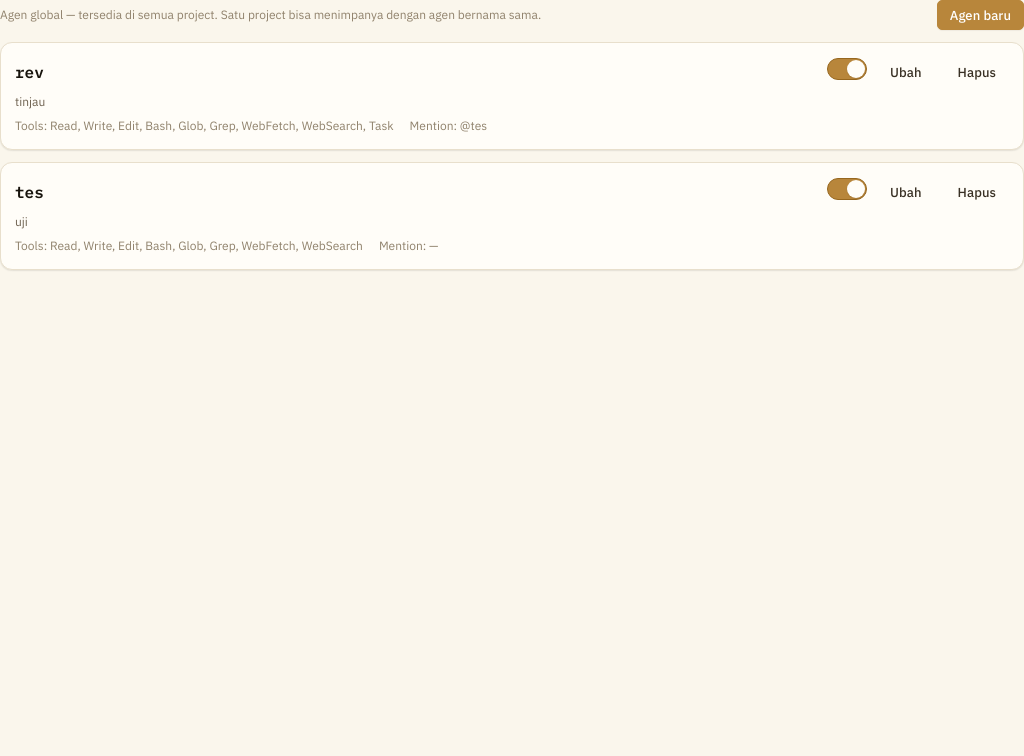
Test: CustomAgentsPanel › nama TAK bisa diubah saat mengedit (changefeed tak punya operasi hapus)
expect the text "rev" is shown: met, box [15,60,44,84]
Click the button "Ubah" in the row of "rev" at (906, 72), box [877,57,934,87]
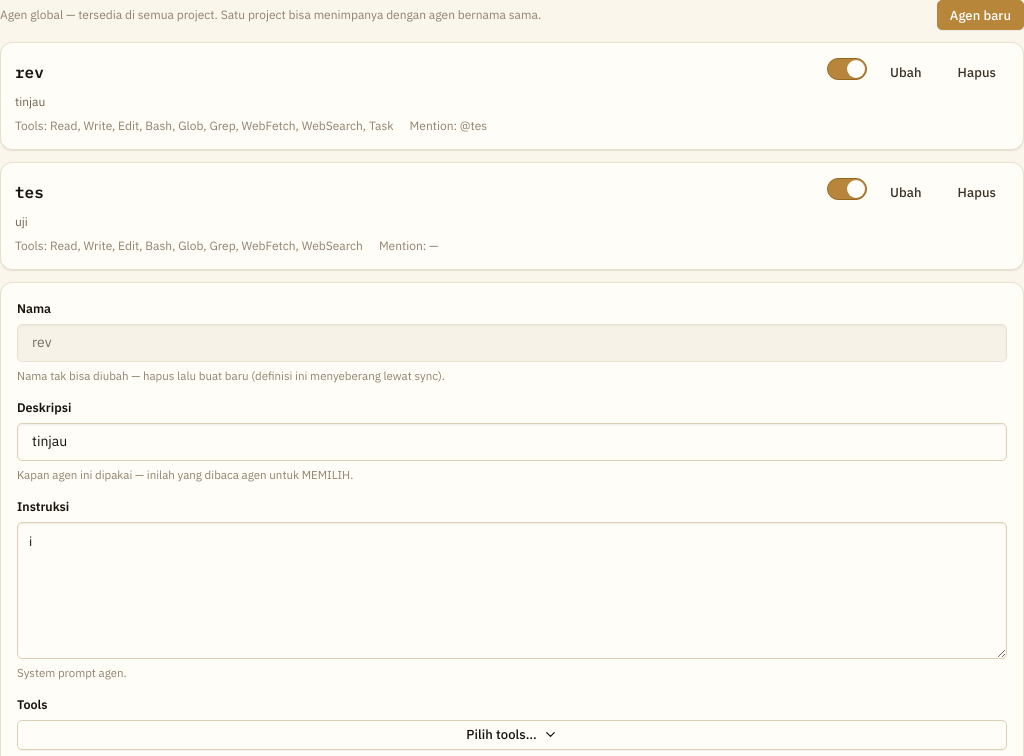
expect the field labelled "Nama" is disabled: met, box [30,333,994,352]
